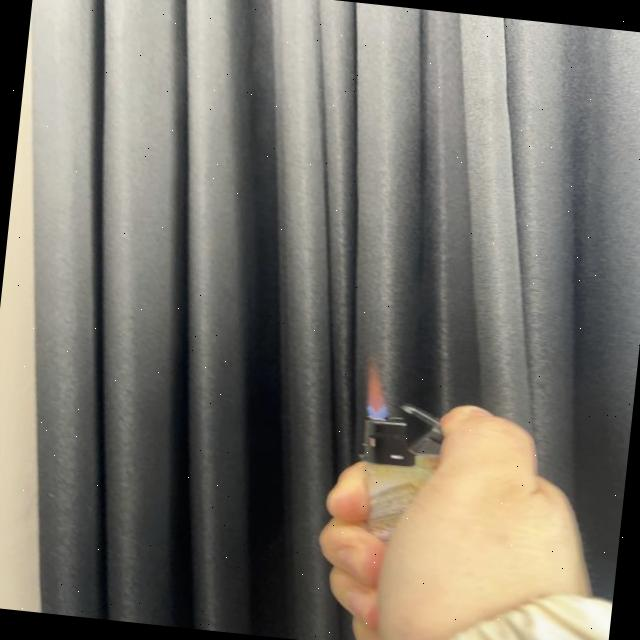fire: (361, 360, 392, 418)
